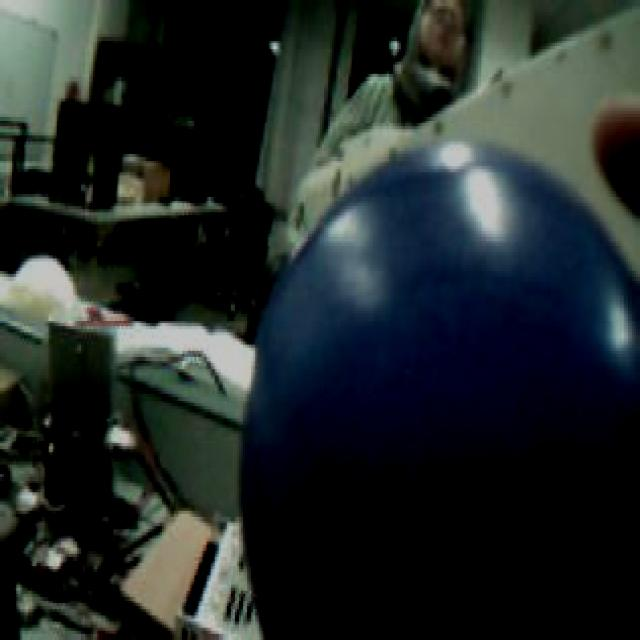BallPurple: (237, 135, 640, 637)
